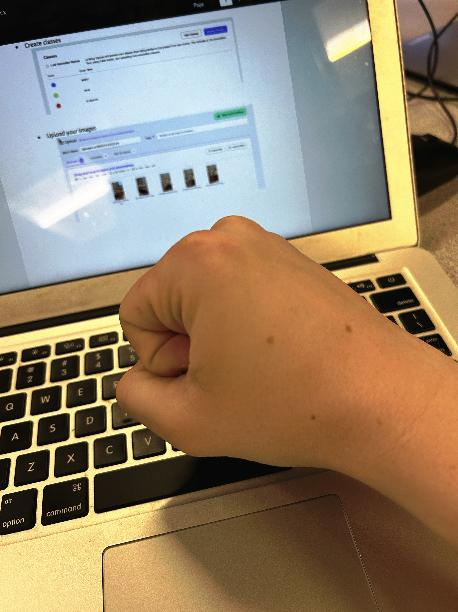Rock: (77, 165, 431, 529)
